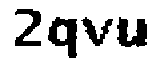2: (10, 5, 44, 48)
q: (48, 14, 79, 60)
u: (115, 13, 150, 52)
v: (80, 16, 113, 48)
